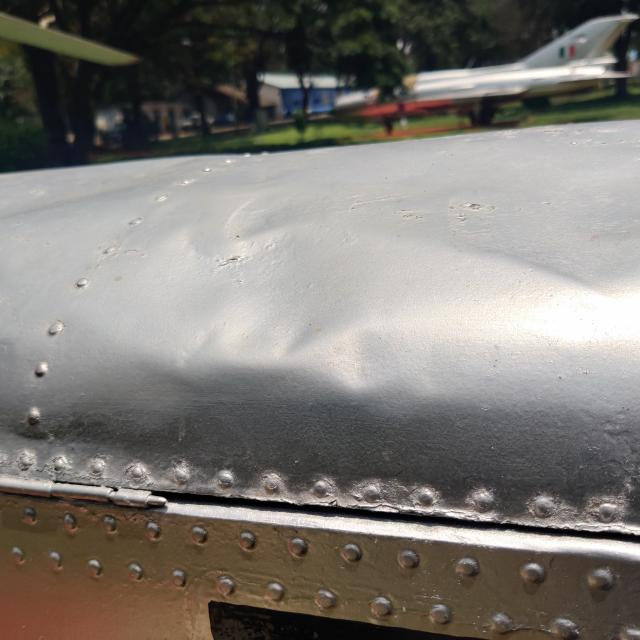dent: (83, 171, 410, 422)
